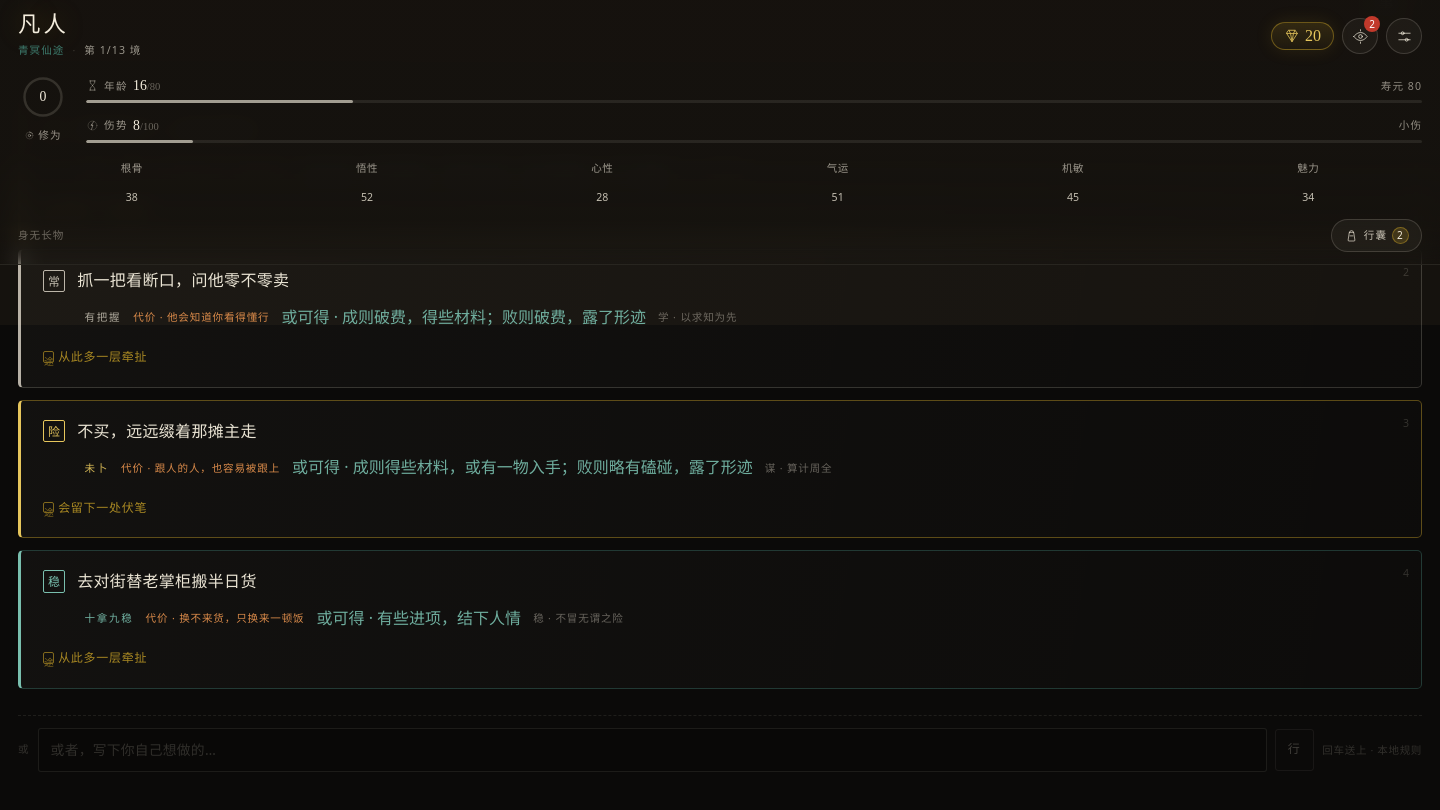
Test: 参详期间（提交在途） › 输入框与按钮都禁用，再按回车也不会重复提交；结束后恢复
(page scrolled)
Type "抢过他手里的书" into the field named "自由输入" at {"x": 652, "y": 750}, box x1=38 y1=728 x2=1267 y2=772
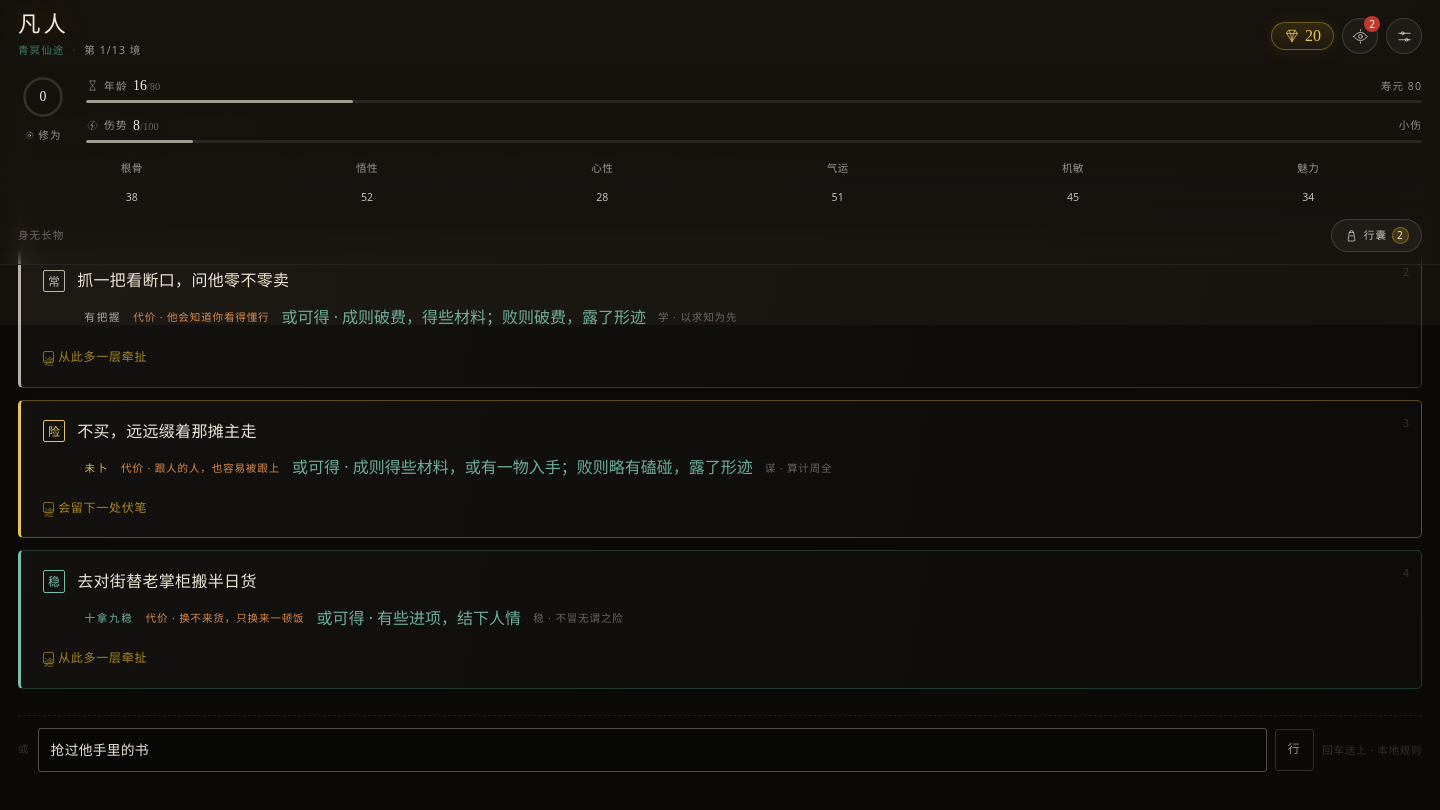
Press Enter
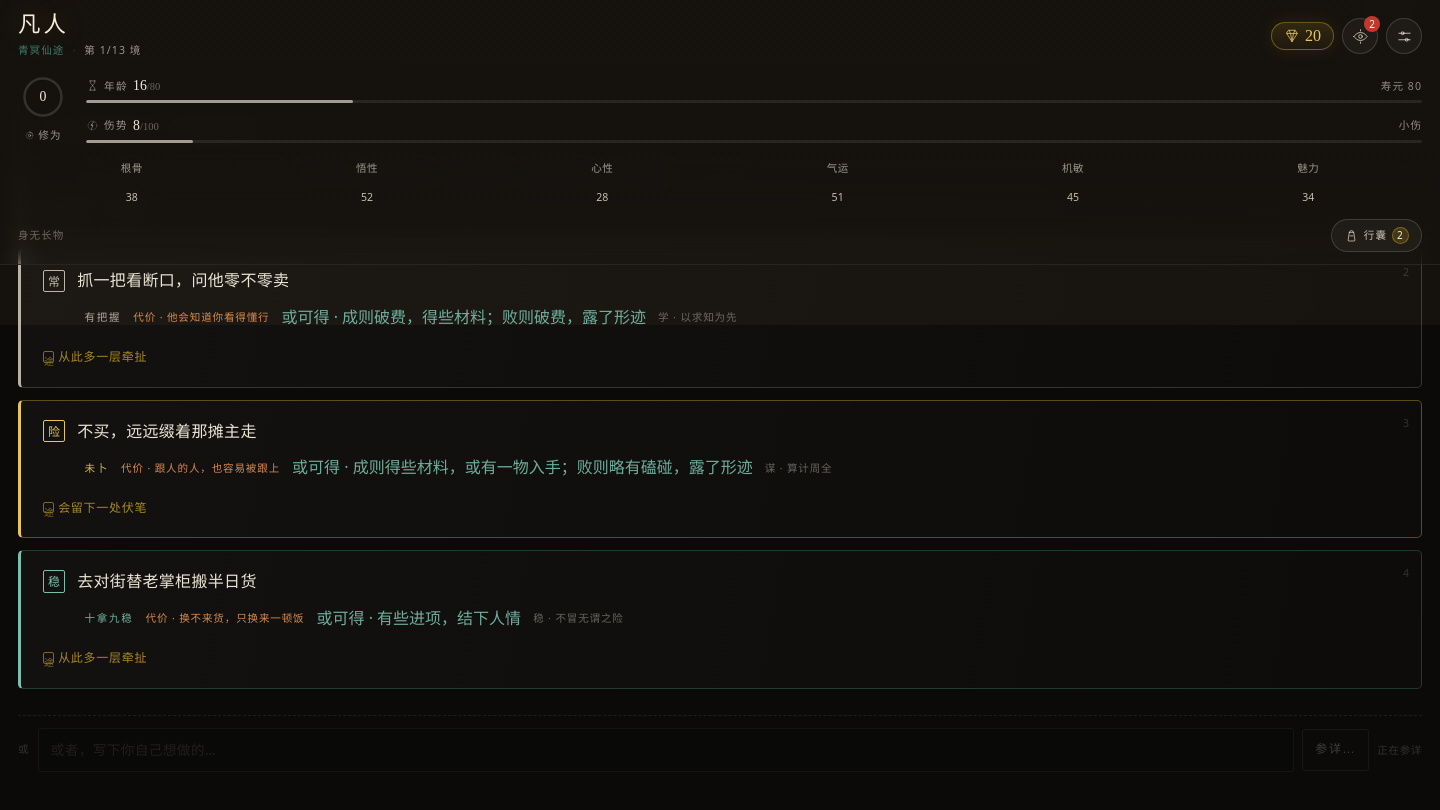
Check: the submit button is disabled, box x1=1302 y1=729 x2=1369 y2=771
Check: the submit button reads "参详…", box x1=1302 y1=729 x2=1369 y2=771
Check: the text "正在参详" is shown, box x1=1377 y1=740 x2=1422 y2=760
连按：真浏览器里输入框已禁用，这里直接把表单提交打进去，考的是那一层 guard
Submit the form named "自由输入", box x1=18 y1=715 x2=1422 y2=772
Press Enter
(page scrolled)
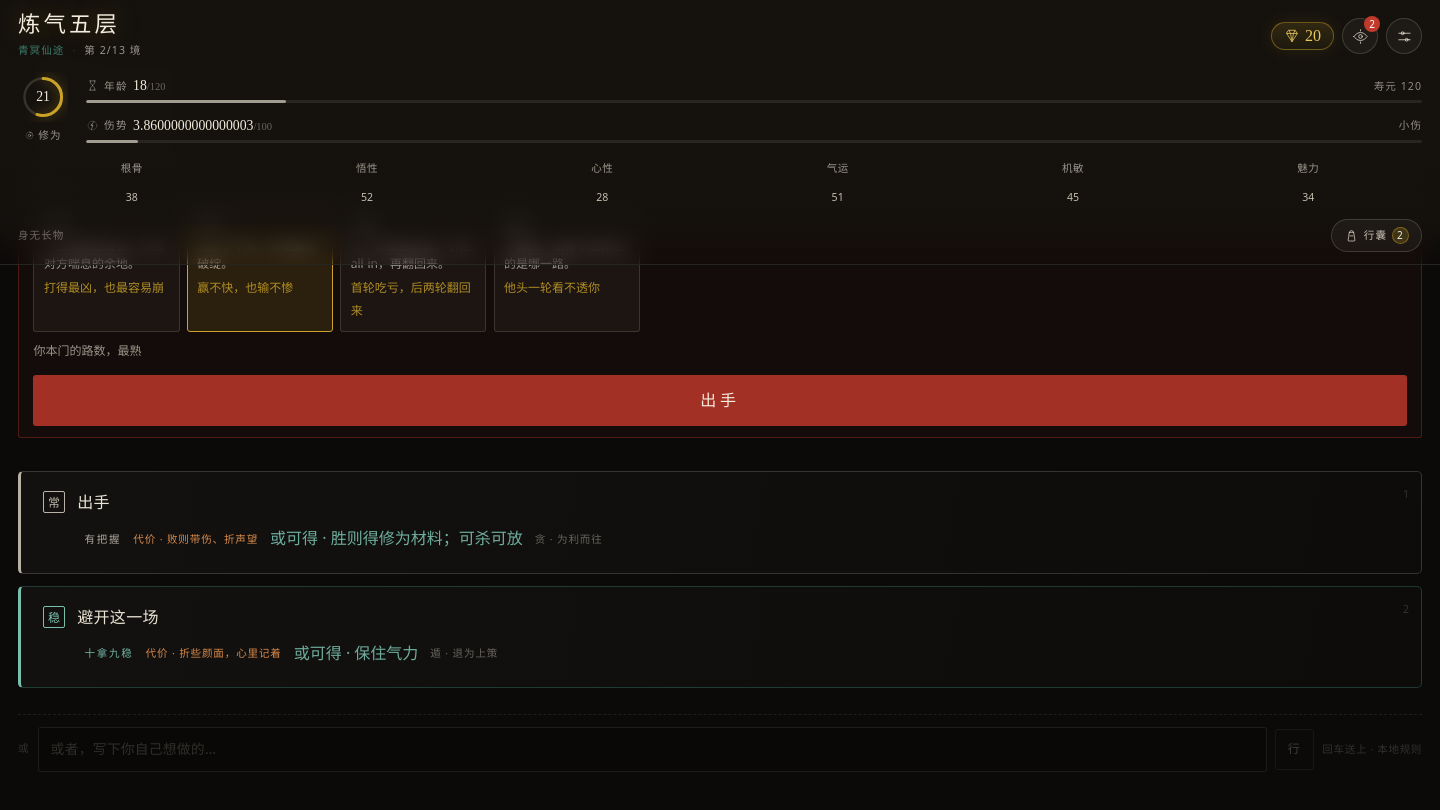
Check: the field named "自由输入" is empty, box x1=38 y1=727 x2=1267 y2=772
Check: the field named "自由输入" is enabled, box x1=38 y1=727 x2=1267 y2=772
Check: the submit button reads "行", box x1=1275 y1=729 x2=1314 y2=770
